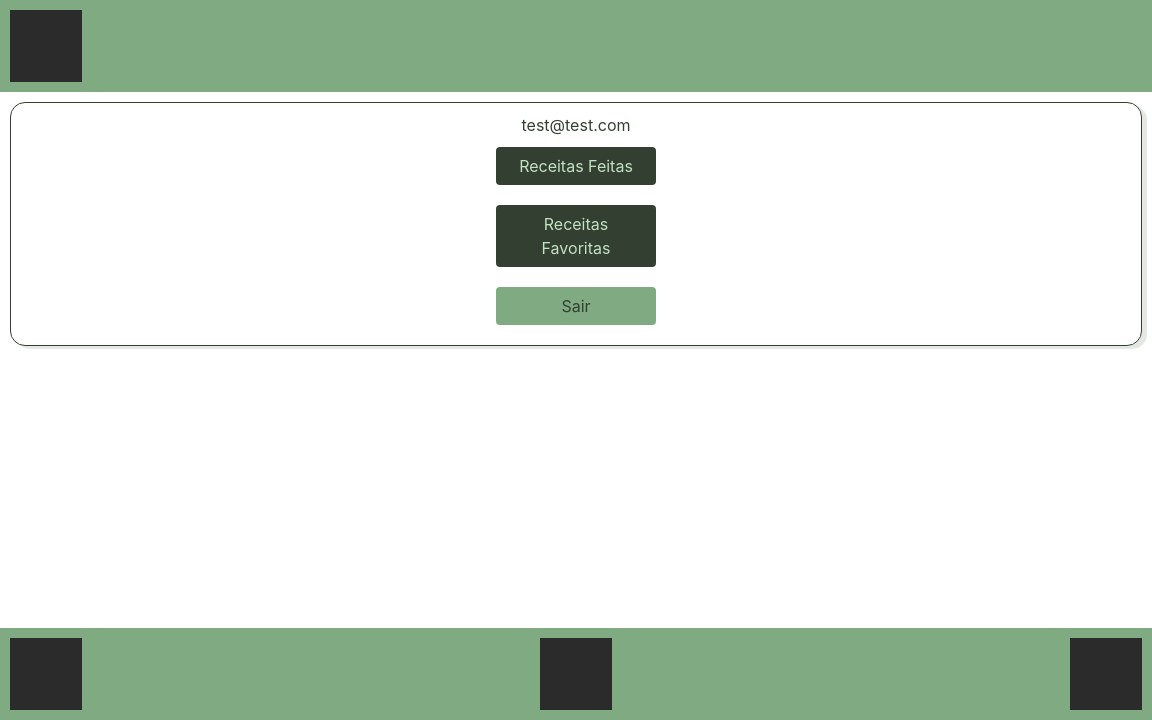
Test: [82 - 87] Testing Profile Screen › Redirects to the correct route when clicking the "Receitas Favoritas" button
The width and height of the screenshot is (1152, 720).
Click the button "Receitas Favoritas": click(576, 236) [496,205,656,267]
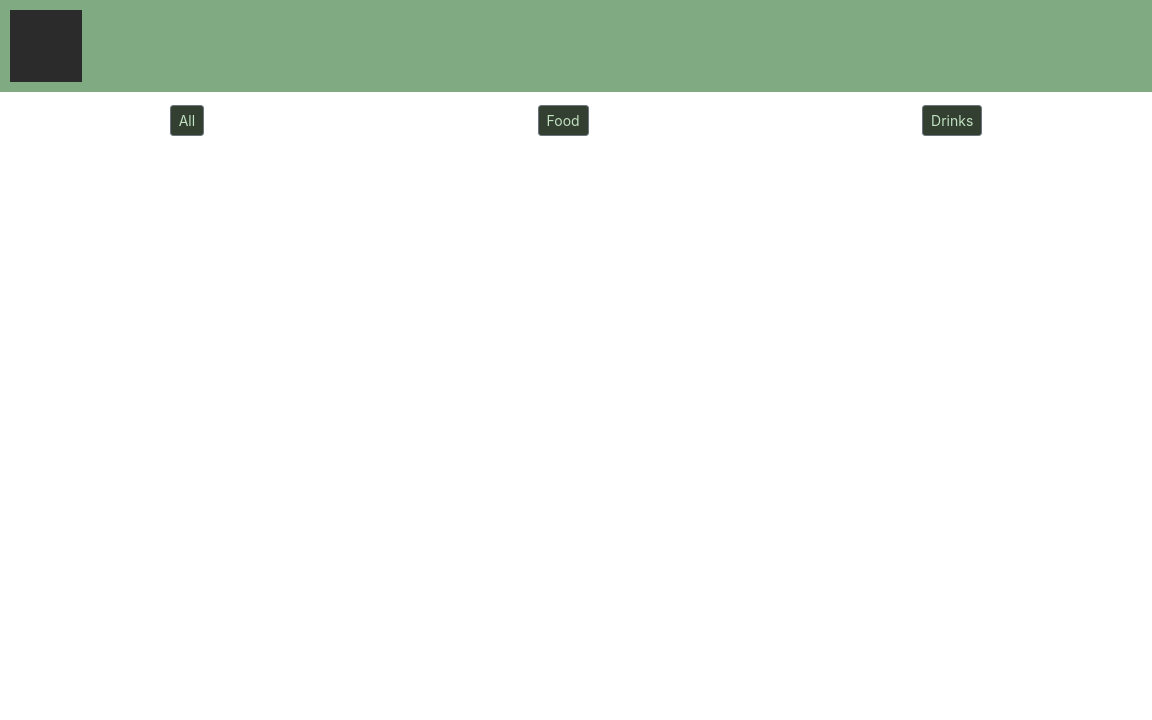
Now the button "All" is shown, box [170,105,204,136]
Now the button "Food" is shown, box [538,105,589,136]
Now the button "Drinks" is shown, box [922,105,982,136]
